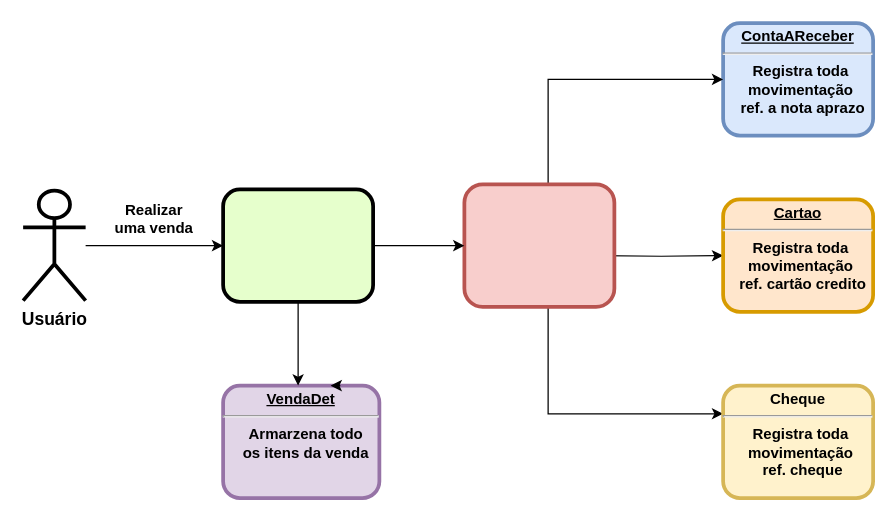
Image size: 896x521. Some labels were removed from this diagram. The centre of each missing label's shape, as x and y in pixels:
"MovtoCaixa Registra toda a movimentação referente a formar de pagto" goes at [539,245].
"VendaCab O cabeçalho ref. a venda contendo todos os dados." goes at [297,245].
